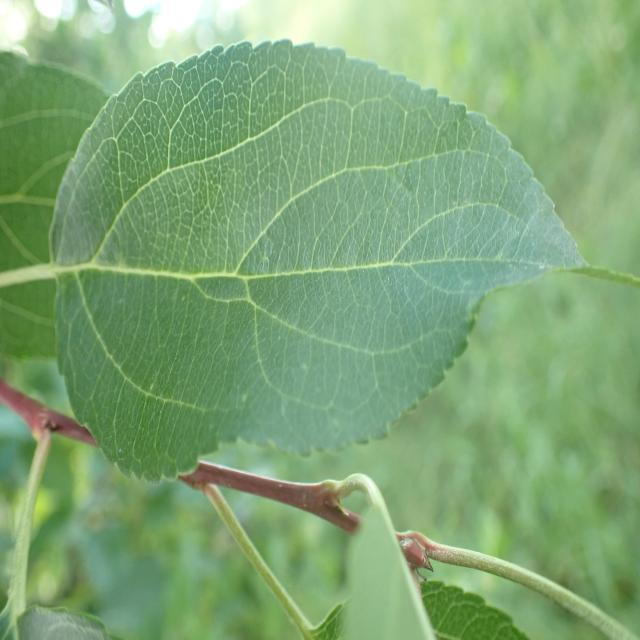healthy: (49, 38, 589, 484), (0, 50, 115, 362)
